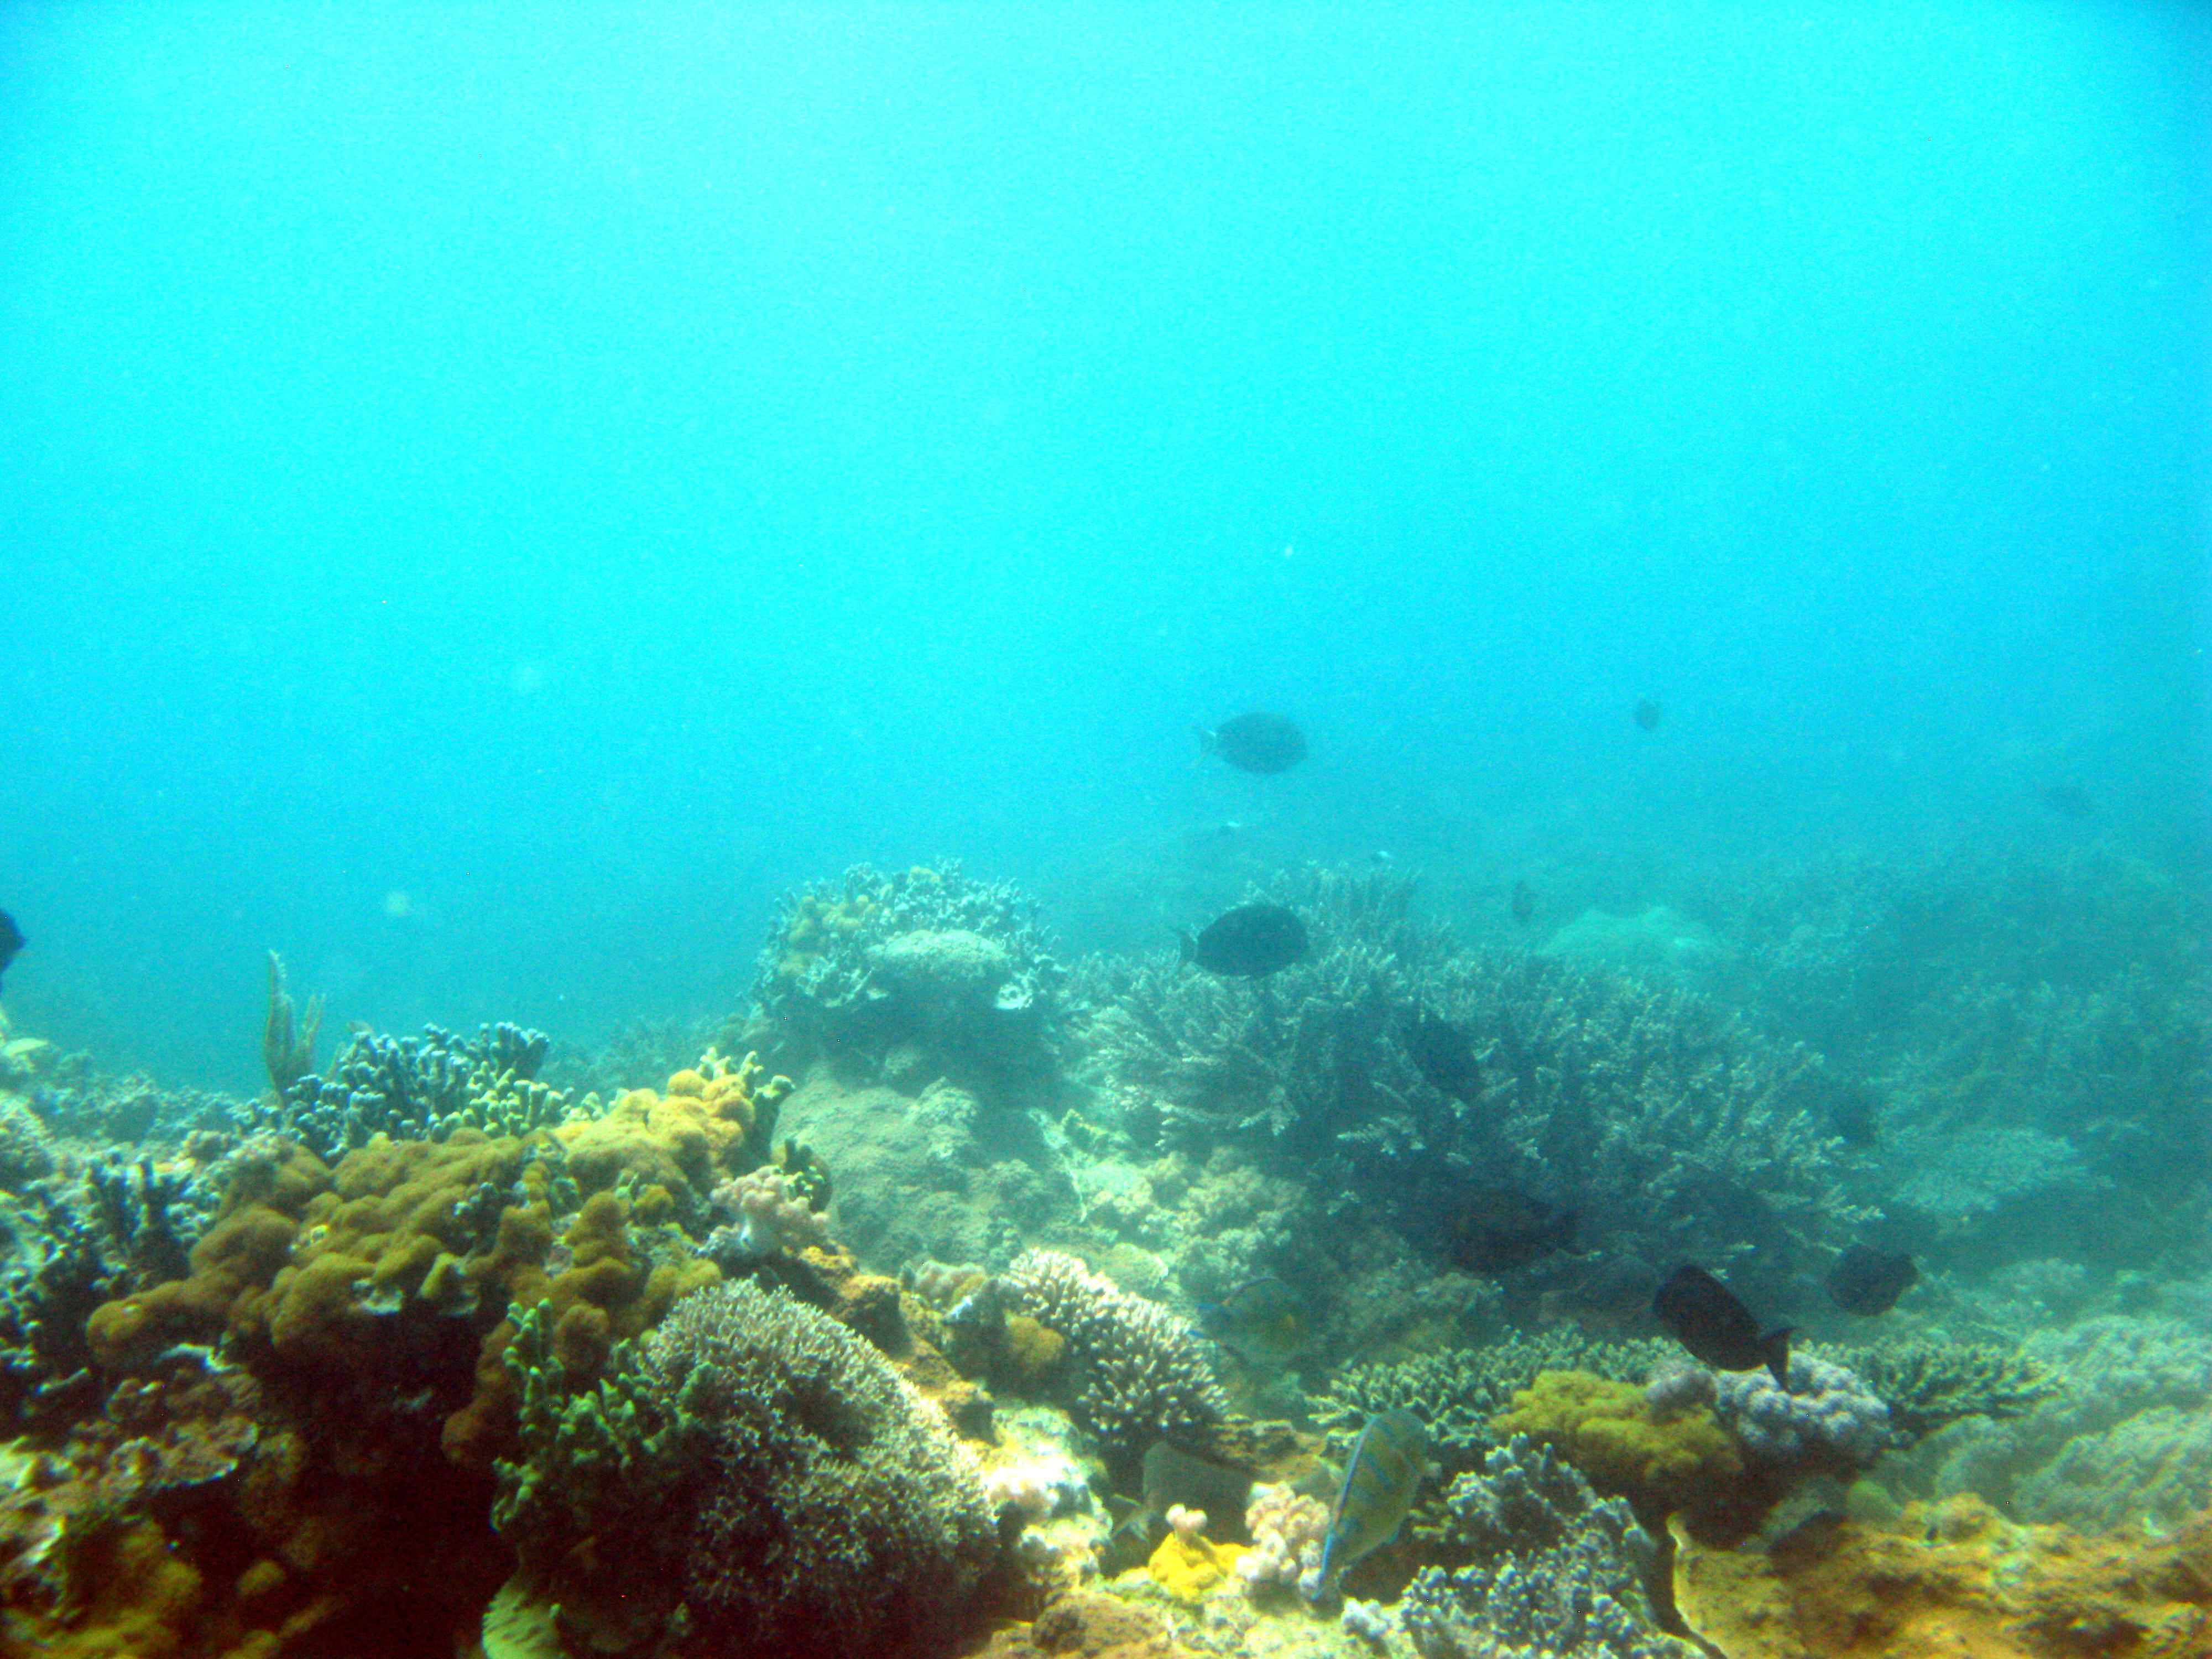Scarus ghobban: (1299, 1389, 1449, 1612)
